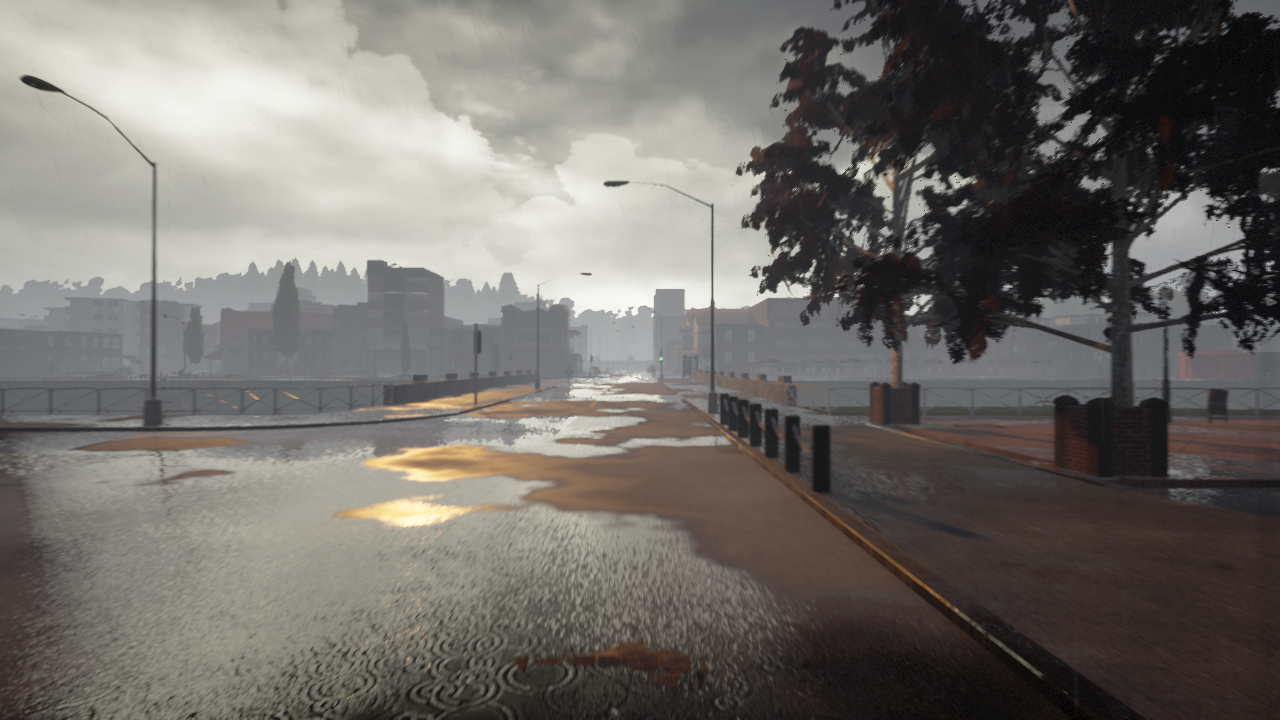green: (658, 351, 663, 362)
